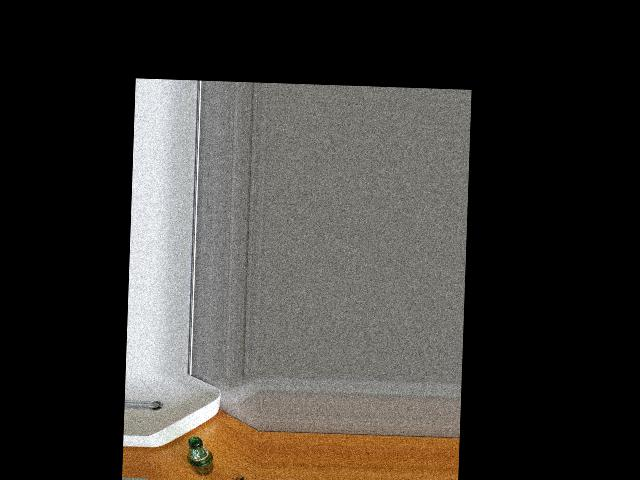beer: (186, 436, 213, 476)
